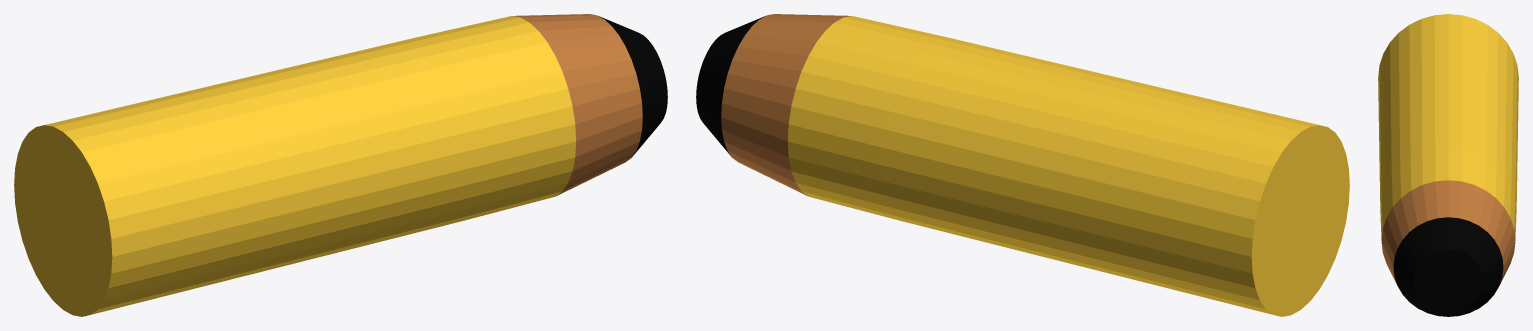
File: Bullet.fbx
3 views of the same model, side by side, from view 1: azimuth 30°, elevation 25°; view 2: azimuth 150°, elevation 25°; view 3: azimuth 270°, elevation 25° (orthographic). The views are drawn at different scales.
Parts seen in each view (by area): view 1: Bullet, BulletCap; view 2: Bullet, BulletCap; view 3: Bullet, BulletCap.
Part boxes in pixels (x1,y1,x2,y2): Bullet: (14,16,576,316); BulletCap: (513,14,667,196); Bullet: (787,16,1349,316); BulletCap: (696,14,850,196); Bullet: (1378,14,1518,240); BulletCap: (1381,180,1515,316).
Bounding box in the file's own units: 47.74 × 13.99 × 13.99.
